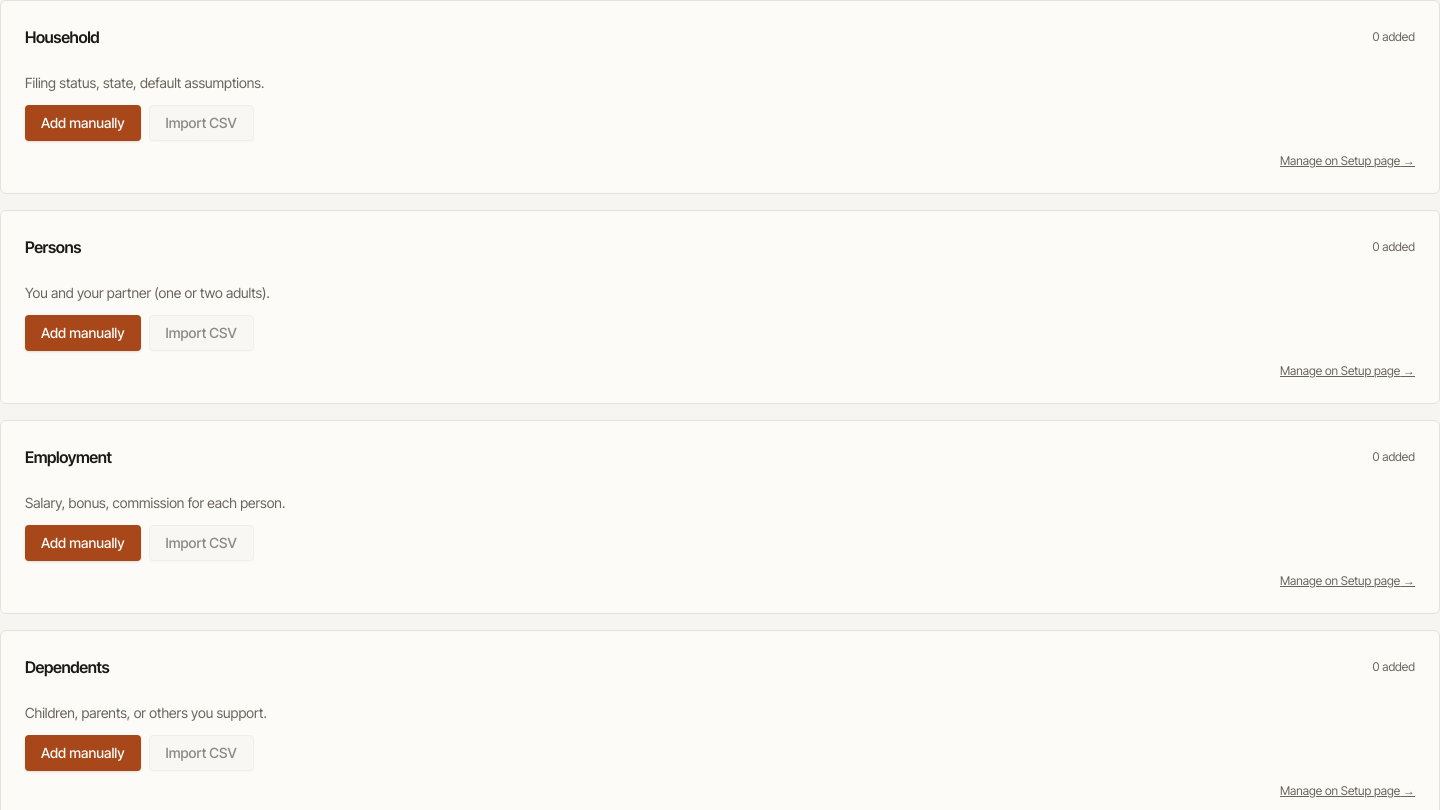
Test: Section1_WhoYouAre › clicking Add manually on the Persons card opens the PersonForm dialog
Expected: the text "Persons" is shown, [25,237,81,257]
Click the button "Add manually" below "Persons" at (83, 333), box [25,315,140,351]
(page scrolled)
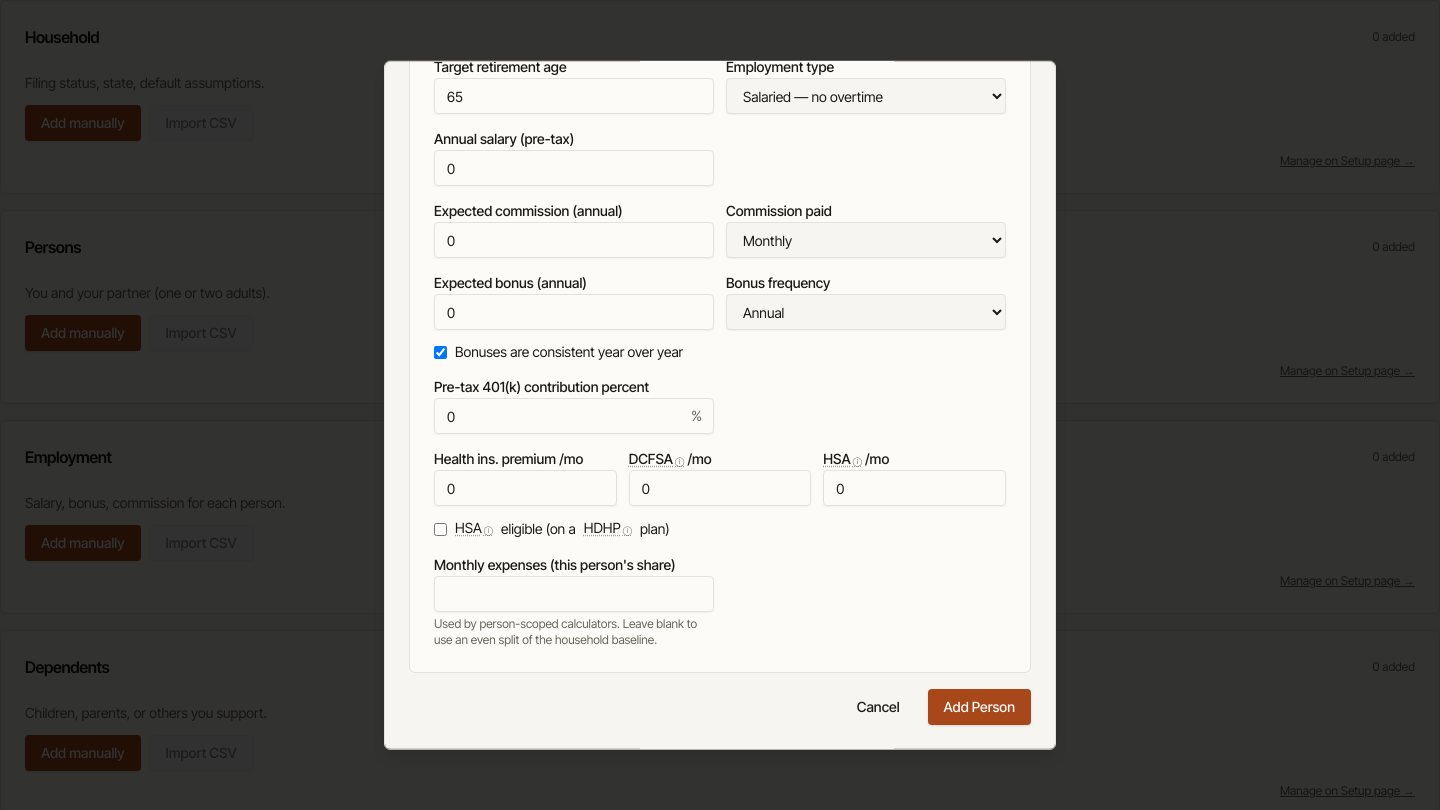
Result: the button "Add Person" is shown at [928,689,1031,725]
